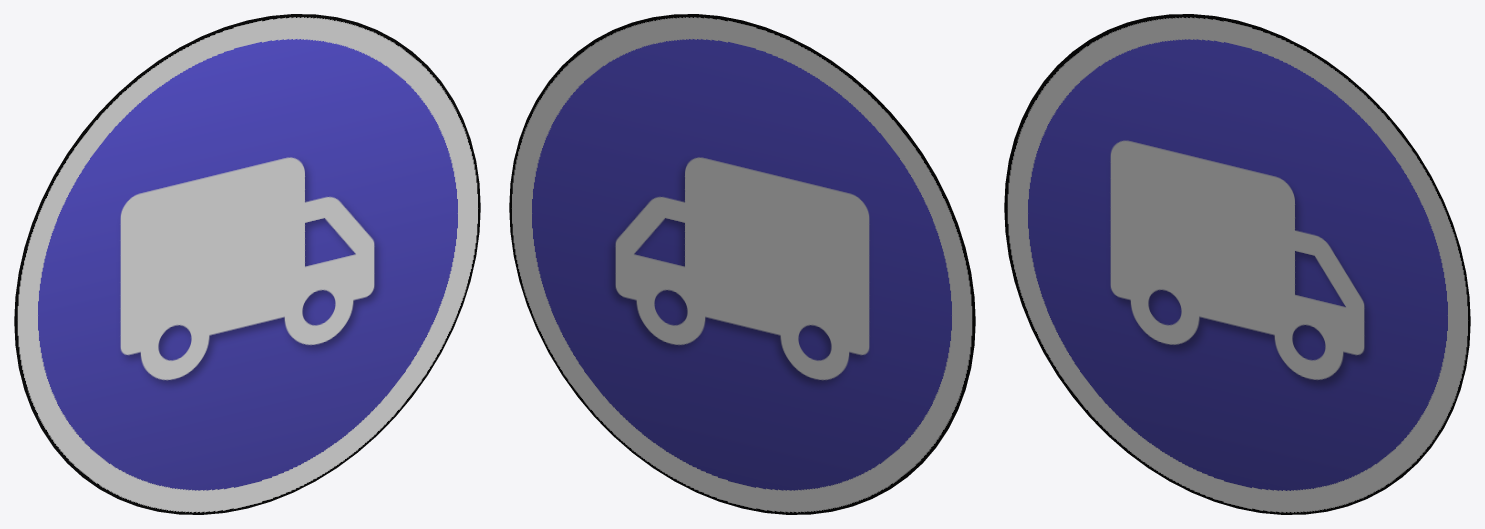
File: truck.obj
3 renders of one model, left to right at view 1: azimuth 30°, elevation 25°; view 2: azimuth 150°, elevation 25°; view 3: azimuth 330°, elevation 25°, orthographic.
Visible parts, largest first — view 1: badge; view 2: badge; view 3: badge.
Part boxes in pixels (x1,y1,x2,y2): badge: [14, 14, 480, 514]; badge: [509, 14, 975, 514]; badge: [1004, 14, 1470, 514].
Bounding box in the file's own units: 1 × 1 × 0.
Materials: 1 (1 with a texture image).
